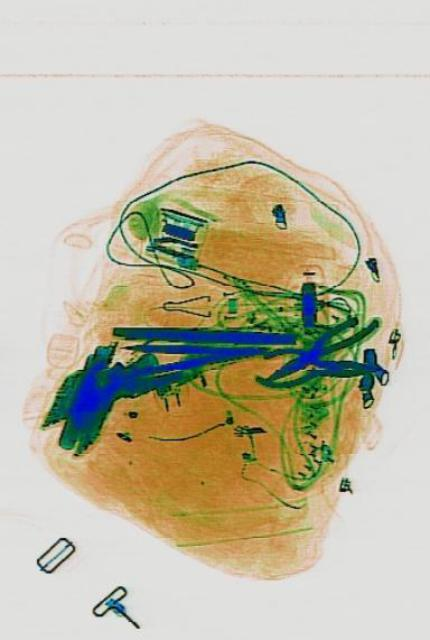Pliers: (257, 300, 378, 394), (252, 344, 375, 388)
